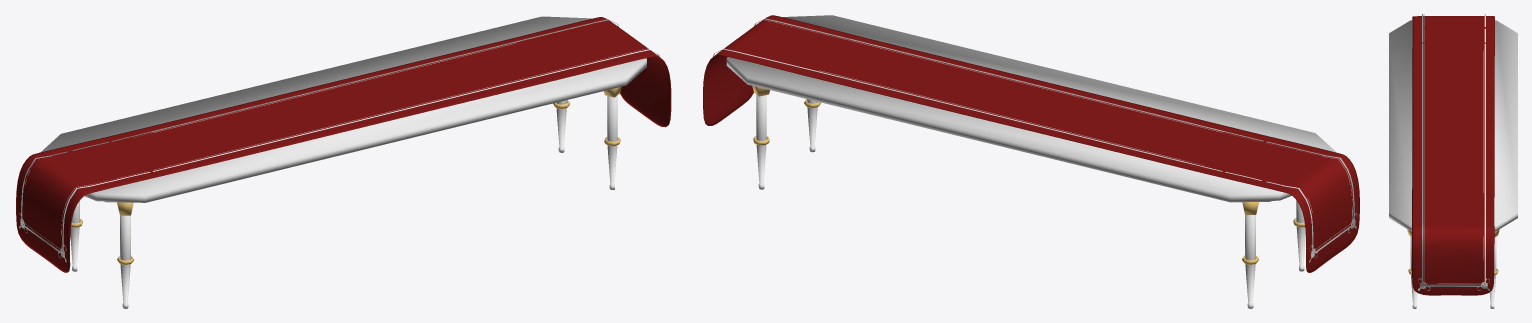
File: Table.fbx
3 views of the same model, side by side, from view 1: azimuth 30°, elevation 25°; view 2: azimuth 150°, elevation 25°; view 3: azimuth 270°, elevation 25° (orthographic). The views are drawn at different scales.
Visible parts, largest first — view 1: Small cloth, Cube, Carpet pattern, Cylinder.001; view 2: Small cloth, Cube, Carpet pattern, Cylinder.001; view 3: Small cloth, Cube, Carpet pattern, Cylinder.001.
Part boxes in pixels (left/top/right/bottom): Small cloth: left=16, top=17, right=671, bottom=272; Cube: left=41, top=16, right=646, bottom=202; Carpet pattern: left=18, top=19, right=659, bottom=262; Cylinder.001: left=70, top=95, right=617, bottom=308; Small cloth: left=703, top=15, right=1359, bottom=272; Cube: left=726, top=15, right=1336, bottom=202; Carpet pattern: left=713, top=18, right=1357, bottom=262; Cylinder.001: left=756, top=94, right=1305, bottom=308; Small cloth: left=1412, top=16, right=1494, bottom=295; Cube: left=1389, top=20, right=1517, bottom=231; Carpet pattern: left=1418, top=14, right=1489, bottom=290; Cylinder.001: left=1410, top=237, right=1496, bottom=308.
Size of the model in its own units: 867 by 174 by 210.
